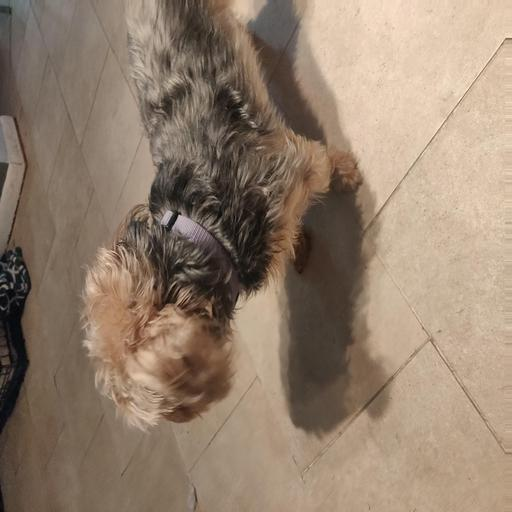dog: (58, 110, 365, 417)
